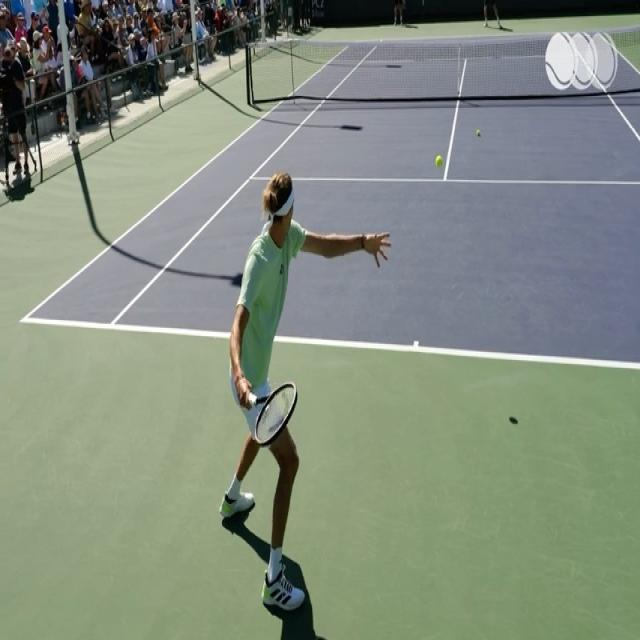forehand-ready: (213, 178, 393, 614)
